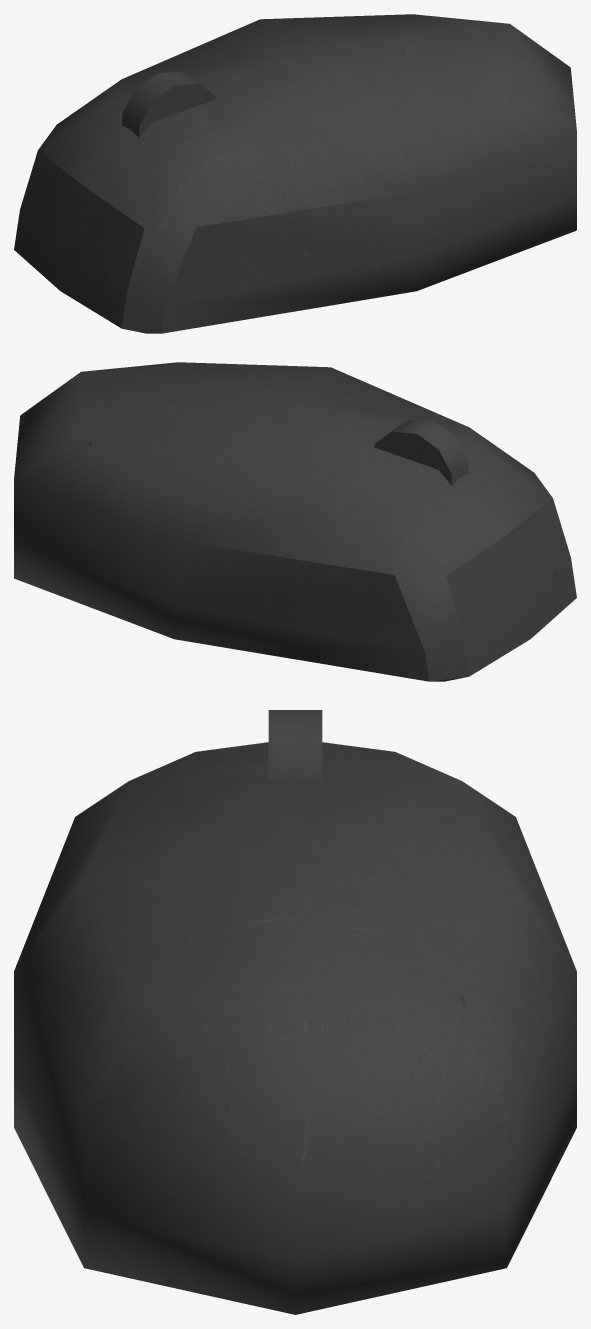
Rendered from SM_computer_mouse_a.fbx.
The picture shows the model from 3 angles, top to bottom: view 1: azimuth 30°, elevation 25°; view 2: azimuth 150°, elevation 25°; view 3: azimuth 270°, elevation 25°; orthographic projection. The views are drawn at different scales.
Visible parts, largest first — view 1: pCube149; view 2: pCube149; view 3: pCube149.
Boxes of the visible parts, x1,y1,x2,y2 form: pCube149: (14, 14, 576, 333); pCube149: (14, 362, 576, 681); pCube149: (14, 710, 576, 1314).
Bounding box in the file's own units: 0.1524 × 0.0589 × 0.0923.
